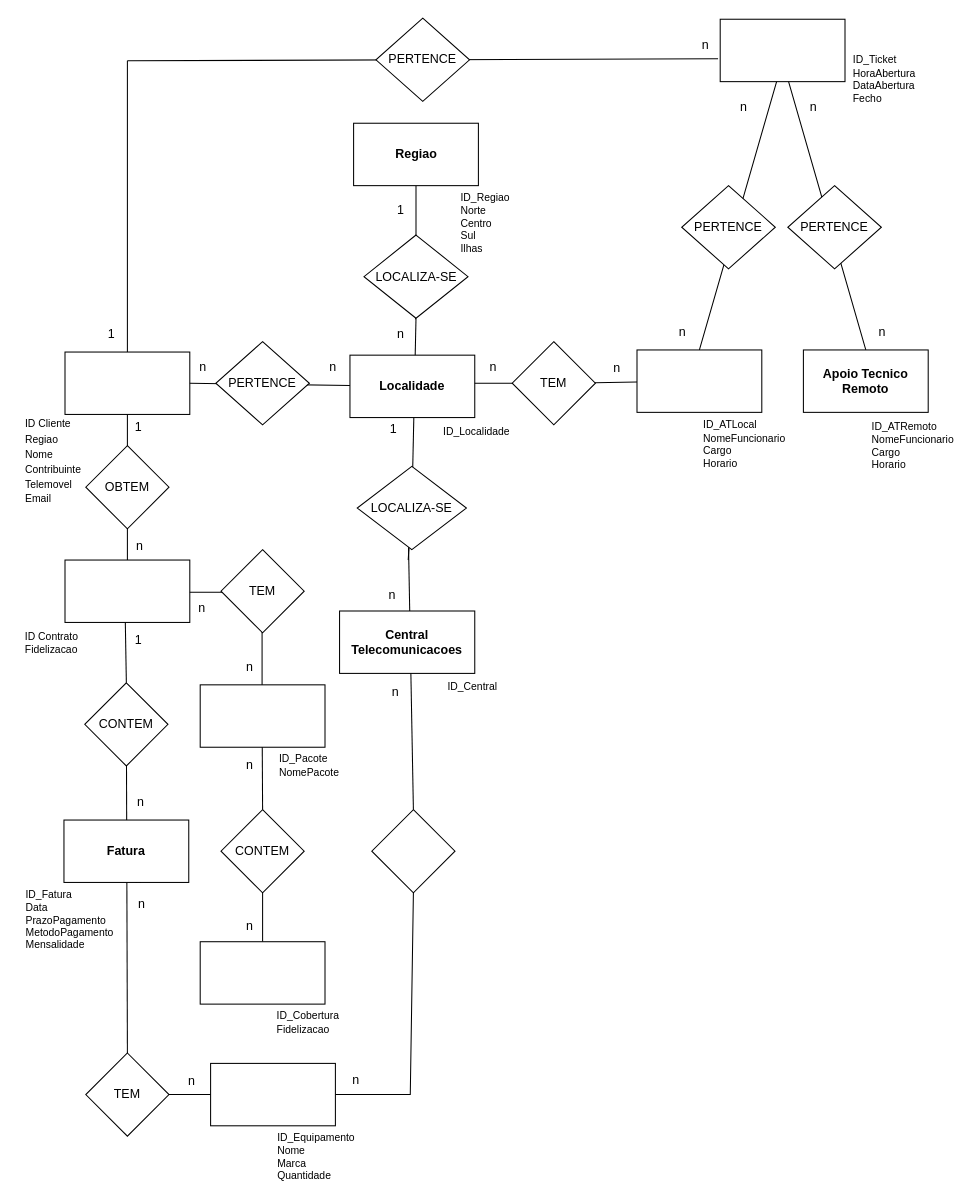
The diagram is 973 pixels wide and 1200 high, and some of its shapes have lost their labels. Here are the shapes that lost their labels. From the top down, the centre of each, then its label:
the point at 782,50: Ticket
the point at 127,382: Cliente
the point at 699,380: Apoio Tecnico Local
the point at 127,590: Contrato
the point at 262,715: Pacote
the point at 413,851: LIGA
the point at 262,972: Cobertura
the point at 272,1094: Equipamento
